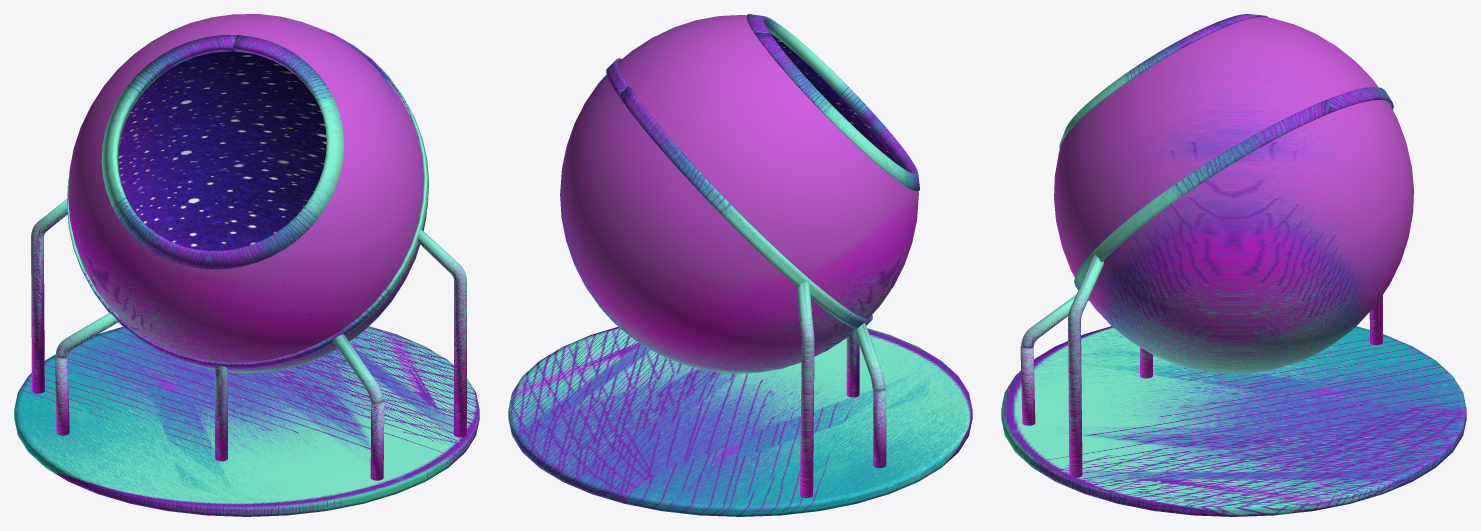
The model's file is TANK.obj.
The picture shows the model from 3 angles, left to right: view 1: azimuth 30°, elevation 25°; view 2: azimuth 150°, elevation 25°; view 3: azimuth 270°, elevation 25°; orthographic projection.
Parts seen in each view (by area): view 1: TANK; view 2: TANK; view 3: TANK.
Boxes of the visible parts, x1,y1,x2,y2 form: TANK: [14, 14, 479, 516]; TANK: [508, 14, 972, 516]; TANK: [1001, 14, 1466, 516].
Size of the model in its own units: 79.5 by 73.21 by 79.5.
